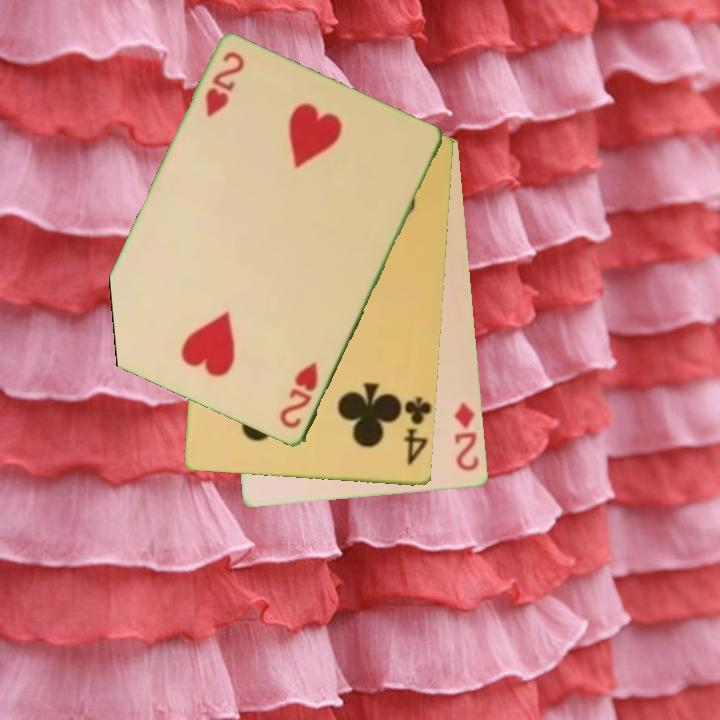2d: (451, 399, 482, 474)
2h: (276, 358, 322, 432), (202, 48, 248, 120)
4c: (401, 393, 433, 469)
